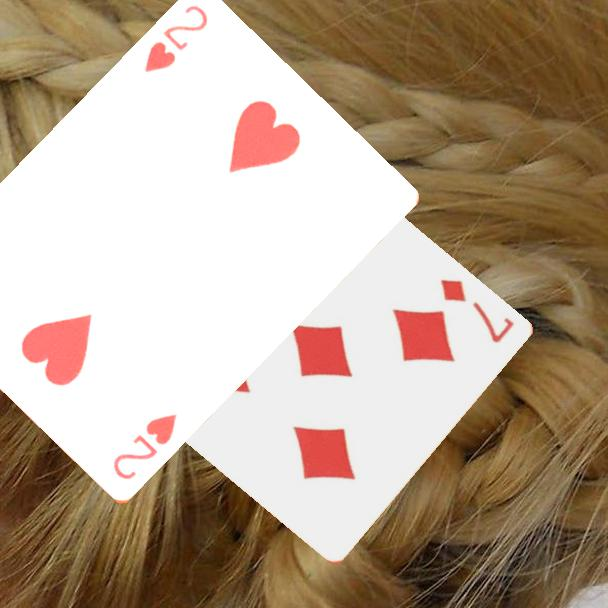d07: (437, 275, 518, 346)
h02: (109, 410, 181, 483), (141, 2, 211, 76)
